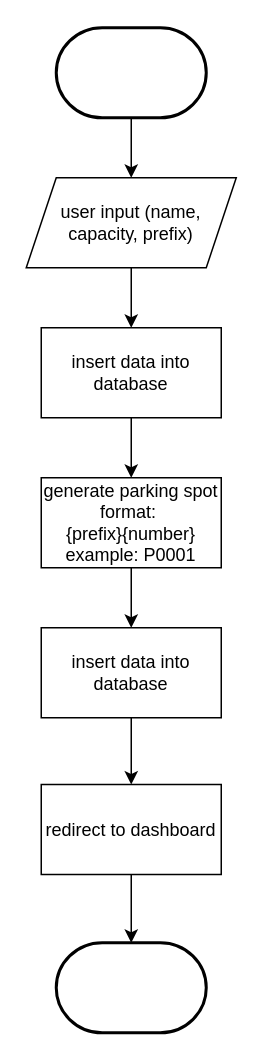
The diagram is 263 pixels wide and 1059 high, and some of its shapes have lost their labels. The box of each missing label's shape, as (x1, y1, x2, y2) in pixels:
end: (54, 940, 207, 1034)
start: (54, 26, 207, 118)
